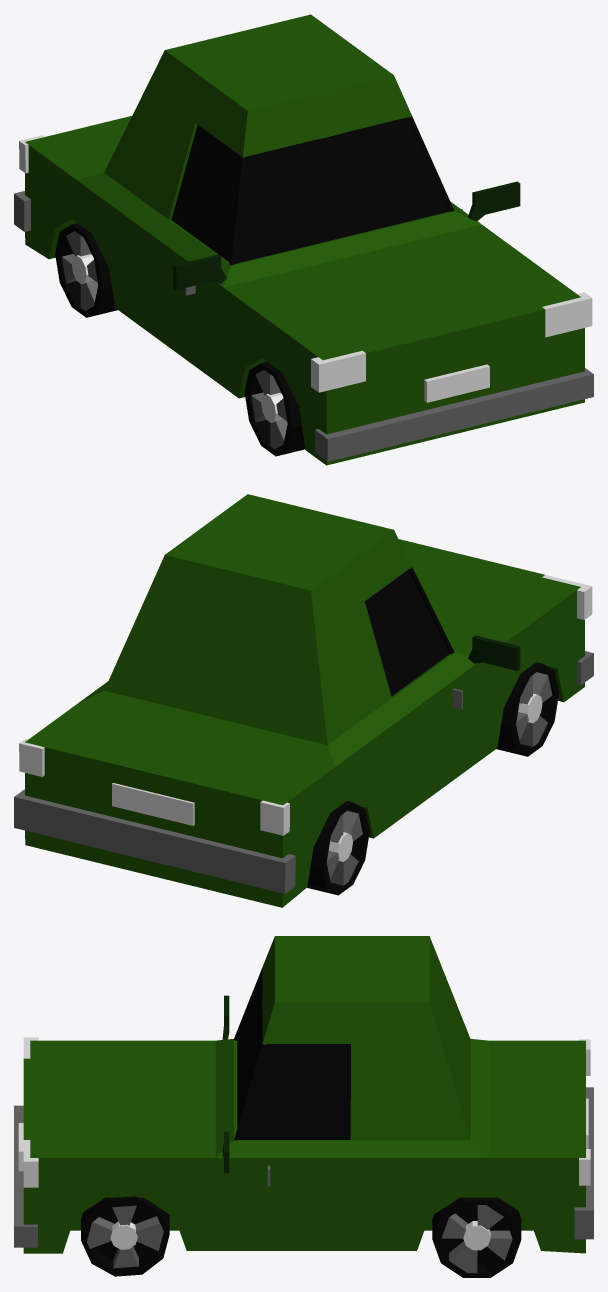
File: Car.fbx
The picture shows the model from 3 angles, top to bottom: view 1: azimuth 30°, elevation 25°; view 2: azimuth 150°, elevation 25°; view 3: azimuth 270°, elevation 25°; orthographic projection. The views are drawn at different scales.
Visible parts, largest first — view 1: Cube, Cube.001, Cube.005; view 2: Cube, Cube.005, Cube.001; view 3: Cube, Cube.004, Cube.002.
Part boxes in pixels (x1,y1,x2,y2): Cube: (14,14,593,465); Cube.001: (244,362,305,456); Cube.005: (55,223,117,317); Cube: (14,494,593,907); Cube.005: (307,801,369,895); Cube.001: (496,662,558,756); Cube: (14,936,593,1253); Cube.004: (432,1197,521,1277); Cube.002: (81,1196,169,1276).
Size of the model in its own units: 266 by 197 by 417.
